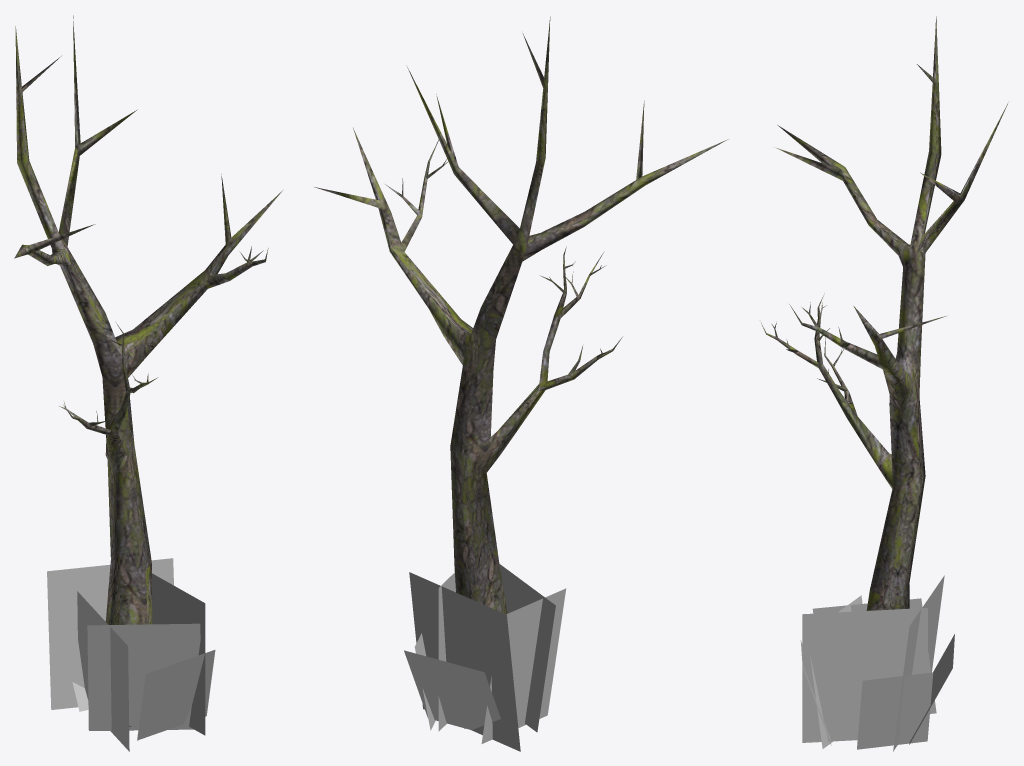
Rendered from Model_Tree_15.fbx.
The picture shows the model from 3 angles, left to right: view 1: azimuth 30°, elevation 25°; view 2: azimuth 150°, elevation 25°; view 3: azimuth 270°, elevation 25°; orthographic projection. The views are drawn at different scales.
Parts seen in each view (by area): view 1: Tree_16; view 2: Tree_16; view 3: Tree_16.
Part boxes in pixels (x1=…): Tree_16: x1=14, y1=15, x2=282, y2=751; Tree_16: x1=314, y1=16, x2=728, y2=751; Tree_16: x1=761, y1=16, x2=1007, y2=751.
Size of the model in its own units: 275 by 595 by 199.
